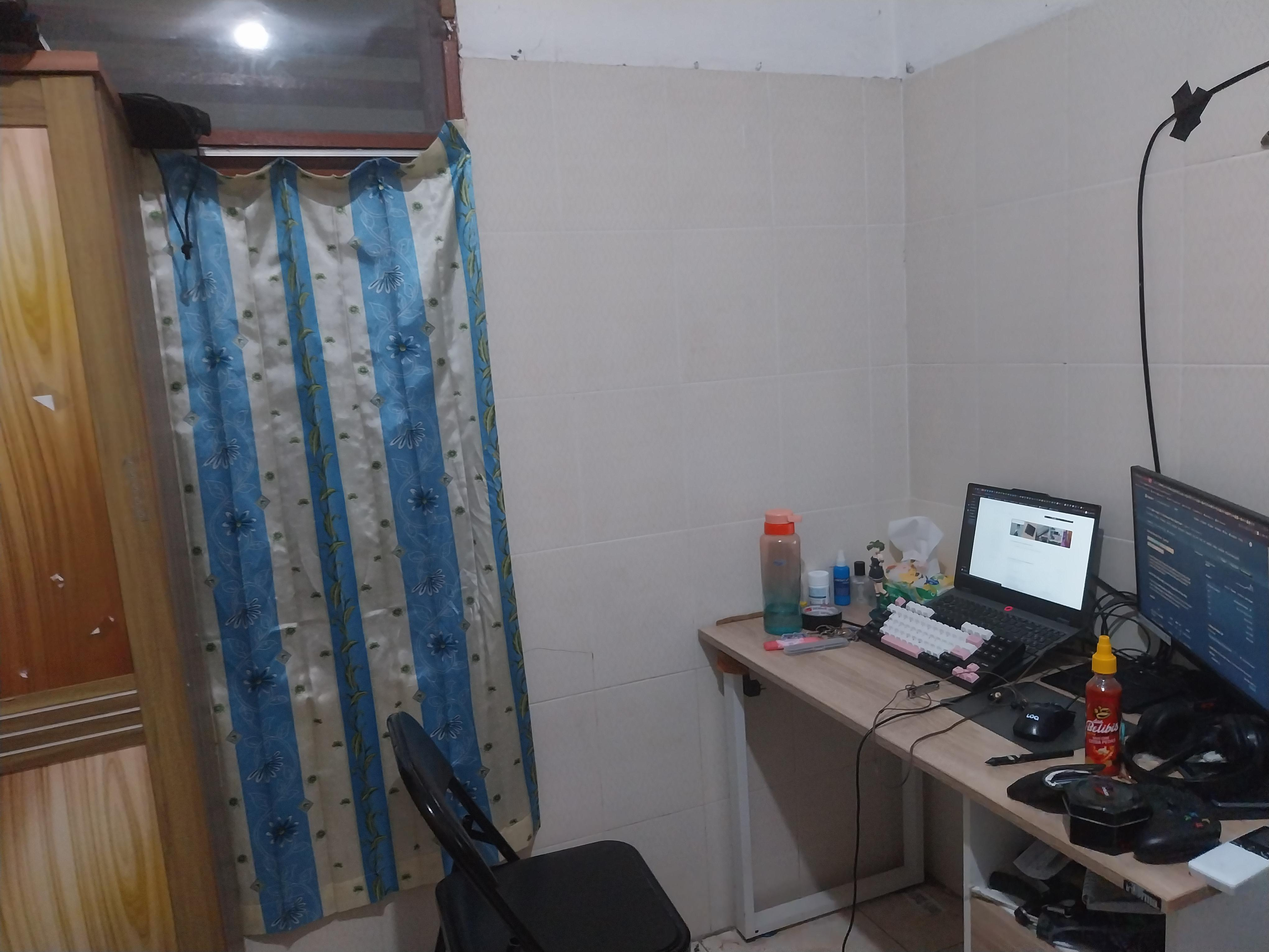chair: (387, 713, 690, 952)
curtain: (135, 116, 565, 936)
keyboard: (855, 587, 1030, 703)
laptop: (922, 464, 1127, 672)
